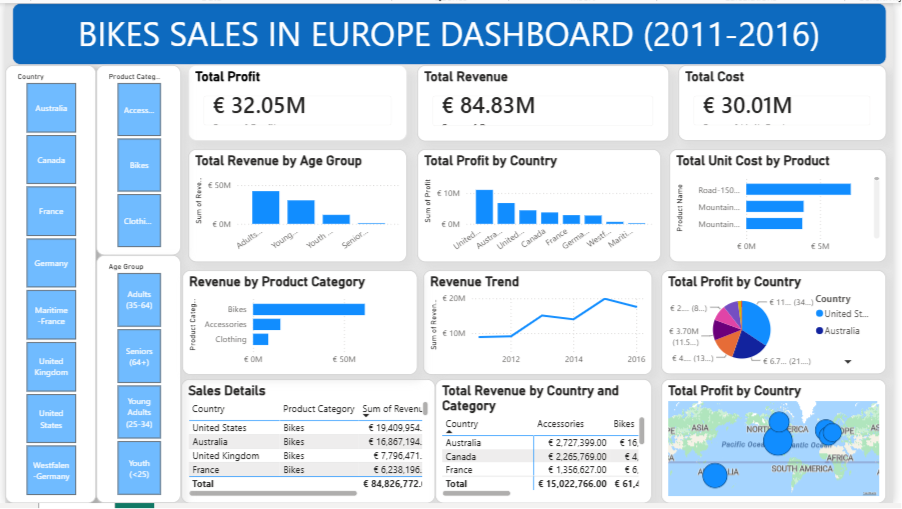

Layout of this report page (visuals, bound fields, positions):
{"tool":"powerbi","page":{"name":"Page 1","canvas":[1280,720],"ordinal":0},"visuals":[{"type":"textbox","box":[10.2,0,1258.5,89.3],"z":0},{"type":"cardVisual","title":"Total Profit","fields":{"Data":["Sum(Sales.Profit)"]},"box":[263.5,89.3,315.4,109.4],"z":1000},{"type":"cardVisual","title":"Total Revenue","fields":{"Data":["Sum(Sales.Revenue)"]},"box":[592.9,88.6,362.9,110],"z":2000},{"type":"cardVisual","title":"Total Cost","fields":{"Data":["Sum(Sales.Unit Cost)"]},"box":[969.1,89.3,299.5,109.4],"z":3000},{"type":"clusteredColumnChart","title":"Total Revenue by Age Group","fields":{"Y":["Sum(Sales.Revenue)"],"Category":["Sales.Age Group"]},"box":[263.5,210.2,315.4,162.7],"z":4000},{"type":"clusteredColumnChart","title":"Total Profit by Country","fields":{"Category":["Sales.Country"],"Y":["Sum(Sales.Profit)"]},"box":[593.3,210.2,351.4,162.7],"z":5000},{"type":"clusteredBarChart","title":"Total Unit Cost by Product ","fields":{"Category":["Sales.Product Name"],"Y":["Sum(Sales.Unit Cost)"]},"box":[955.7,210,312.9,162.9],"z":6000},{"type":"lineChart","title":"Revenue Trend","fields":{"Category":["Sales.Sales Date.Variation.Date Hierarchy.Year","Sales.Sales Date.Variation.Date Hierarchy.Quarter","Sales.Sales Date.Variation.Date Hierarchy.Month","Sales.Sales Date.Variation.Date Hierarchy.Day"],"Y":["Sum(Sales.Revenue)"]},"box":[601.9,384.5,329.8,151.2],"z":7000},{"type":"pieChart","title":"Total Profit by Country","fields":{"Category":["Sales.Country"],"Y":["Sum(Sales.Profit)"]},"box":[944.6,384.5,324,149.8],"z":8000},{"type":"tableEx","title":"Sales Details","fields":{"Values":["Sales.Country","Sales.Product Category","Sum(Sales.Revenue)","Sum(Sales.Profit)"]},"box":[253.4,541.4,365.8,178.6],"z":9000},{"type":"pivotTable","title":"Total Revenue by Country and Category","fields":{"Rows":["Sales.Country"],"Columns":["Sales.Product Category"],"Values":["Sum(Sales.Revenue)"]},"box":[619.2,541.4,312.5,178.6],"z":10000},{"type":"azureMap","title":"Total Profit by Country","fields":{"Category":["Sales.Country"],"Size":["Sum(Sales.Profit)"]},"box":[944.3,541.4,324.3,178.6],"z":11000},{"type":"slicer","title":"Country","fields":{"Values":["Sales.Country"]},"box":[0,89.3,131,630.7],"z":12000},{"type":"slicer","title":"Product Category","fields":{"Values":["Sales.Product Category"]},"box":[131,89.3,122.4,273.6],"z":13000},{"type":"slicer","title":"Age Group","fields":{"Values":["Sales.Age Group"]},"box":[131,362.9,122.4,357.1],"z":14000},{"type":"clusteredBarChart","title":" Revenue by Product Category","fields":{"Category":["Sales.Product Category","Sales.Product Subcategory"],"Y":["Sum(Sales.Revenue)"]},"box":[254.3,384.3,338.6,151.4],"z":15000}]}

Visuals, with their boxes in screenshot pixels (x1, y1, x2, y2), scaled from the page's 1280x720 canvas onto the 902x509 screenshot:
textbox: 7/0/894/63
"Total Profit" cardVisual: 186/63/408/140
"Total Revenue" cardVisual: 418/63/674/140
"Total Cost" cardVisual: 683/63/894/140
"Total Revenue by Age Group" clusteredColumnChart: 186/149/408/264
"Total Profit by Country" clusteredColumnChart: 418/149/666/264
"Total Unit Cost by Product " clusteredBarChart: 673/148/894/264
"Revenue Trend" lineChart: 424/272/657/379
"Total Profit by Country" pieChart: 666/272/894/378
"Sales Details" tableEx: 179/383/436/508
"Total Revenue by Country and Category" pivotTable: 436/383/657/508
"Total Profit by Country" azureMap: 665/383/894/508
"Country" slicer: 0/63/92/508
"Product Category" slicer: 92/63/179/257
"Age Group" slicer: 92/257/179/508
" Revenue by Product Category" clusteredBarChart: 179/272/418/379
